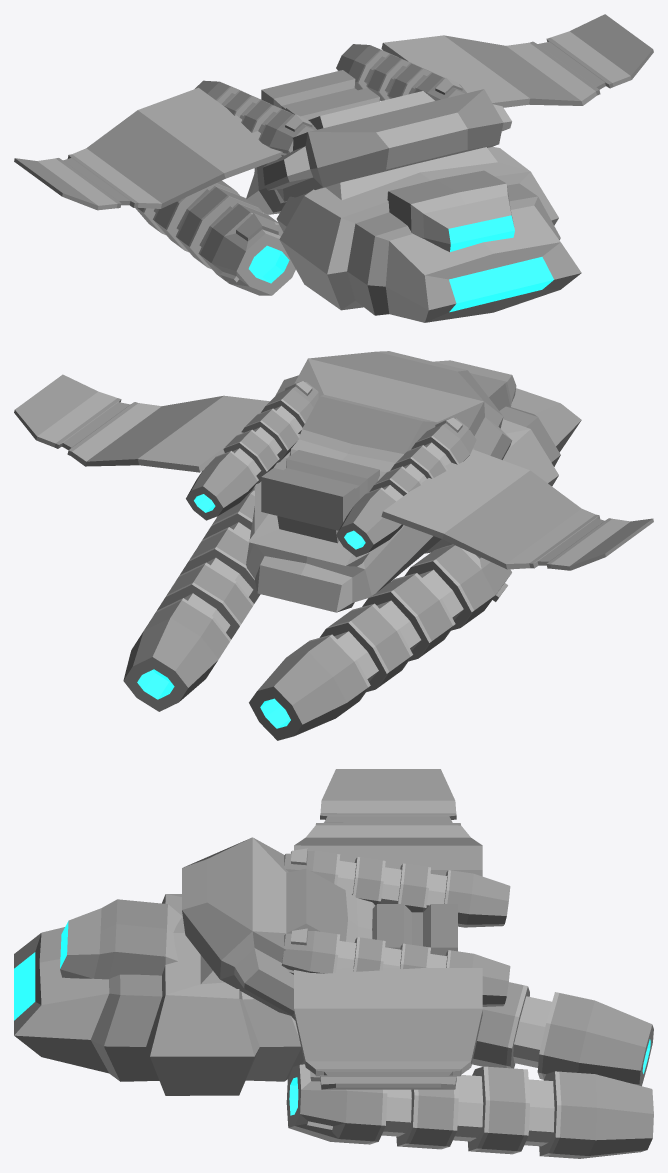
The model's file is spaceship 2 white.fbx.
3 renders of one model, top to bottom at view 1: azimuth 30°, elevation 25°; view 2: azimuth 150°, elevation 25°; view 3: azimuth 270°, elevation 25°, orthographic. The views are drawn at different scales.
Visible parts, largest first — view 1: Cube.027; view 2: Cube.027; view 3: Cube.027.
Boxes of the visible parts, bbox=[...] form: Cube.027: bbox=[14, 14, 653, 322]; Cube.027: bbox=[14, 351, 653, 740]; Cube.027: bbox=[14, 769, 653, 1158].
Bounding box in the file's own units: 832 × 298 × 713.
